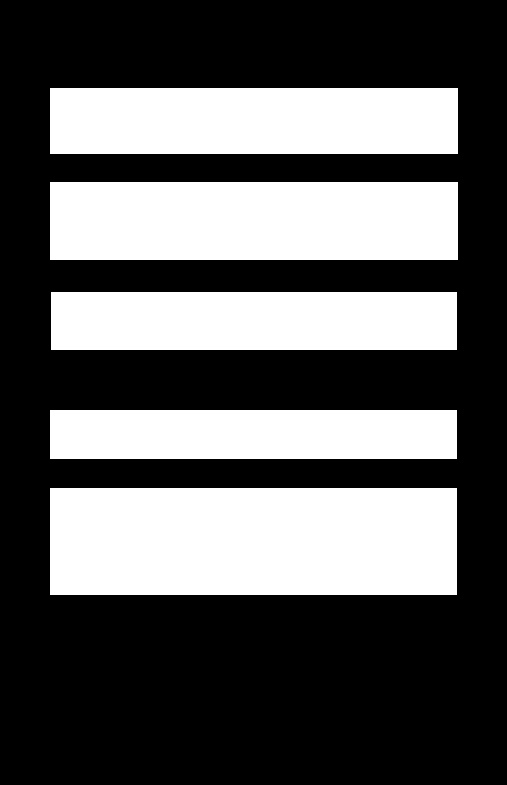table: (50, 488, 456, 594), (50, 182, 457, 259), (50, 88, 457, 153), (51, 292, 456, 349), (50, 410, 456, 458)
